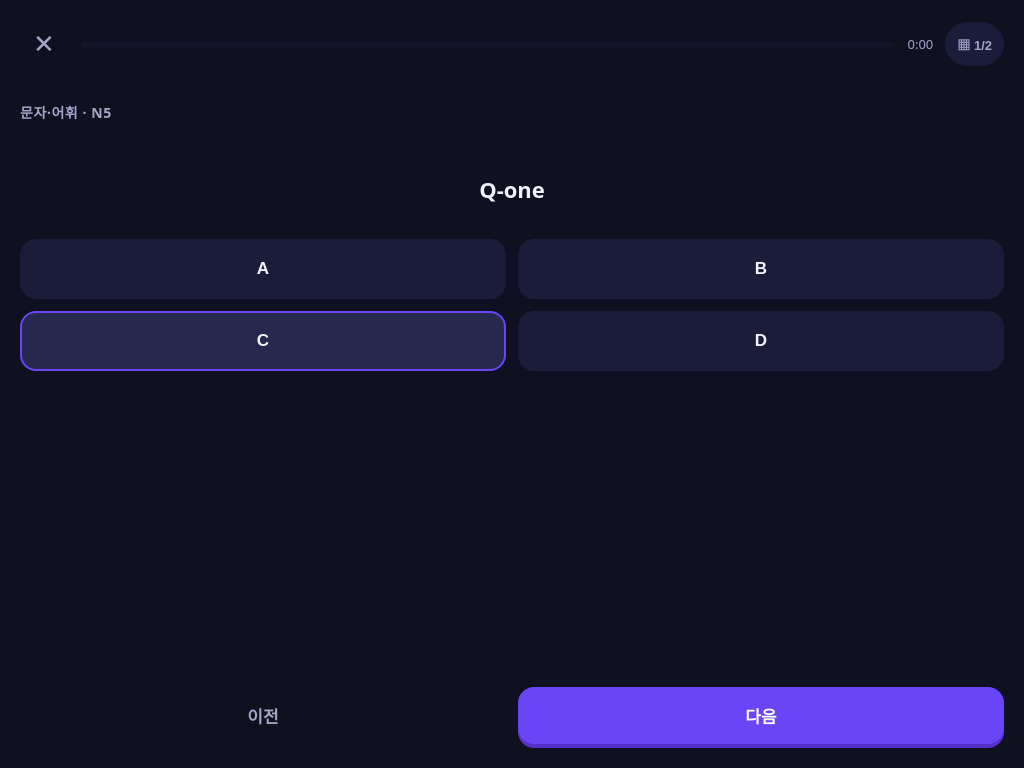
Test: JlptExam flow › navigator opens, shows answered state, and jumps
Click the button named "문항 목록" at (975, 44), box top-left (945, 22), bottom-right (1004, 66)
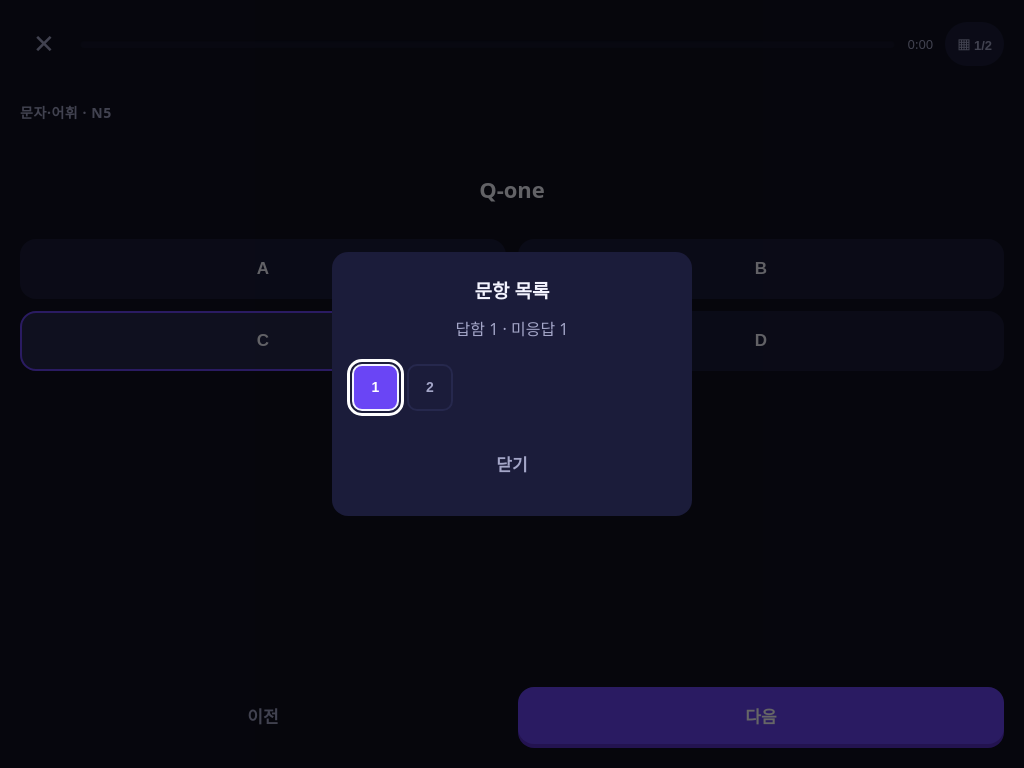
Click the button named "2번, 미응답" at (430, 388), box top-left (407, 364), bottom-right (453, 411)
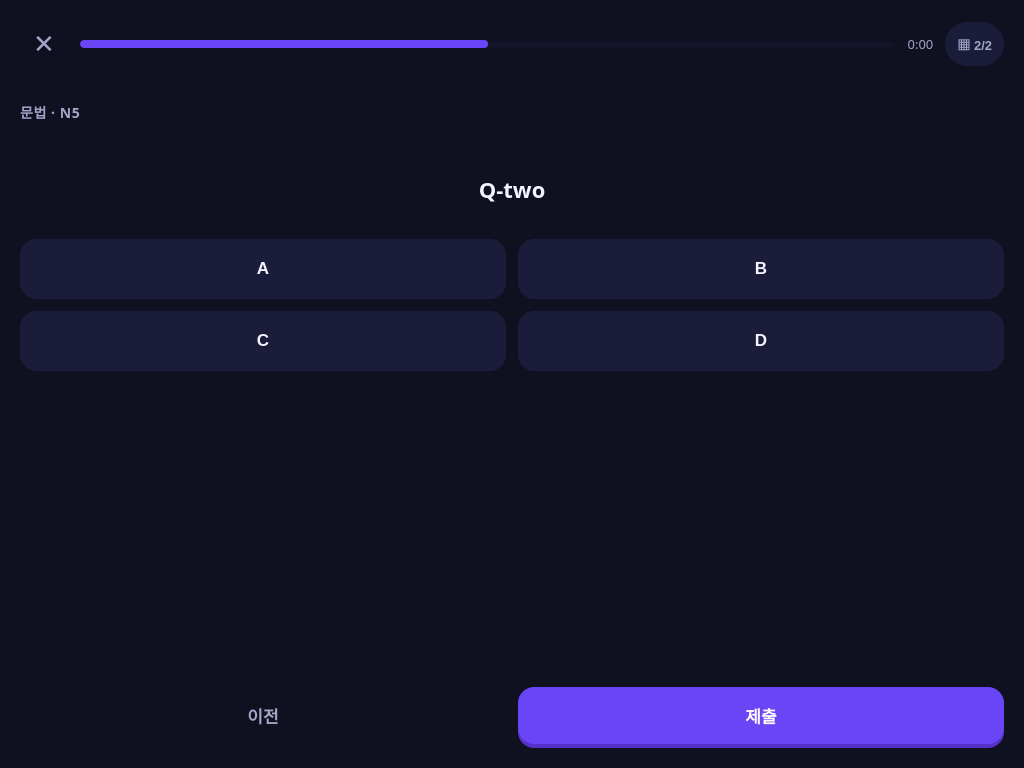
Now the text "Q-two" is shown, box top-left (479, 172), bottom-right (545, 207)
